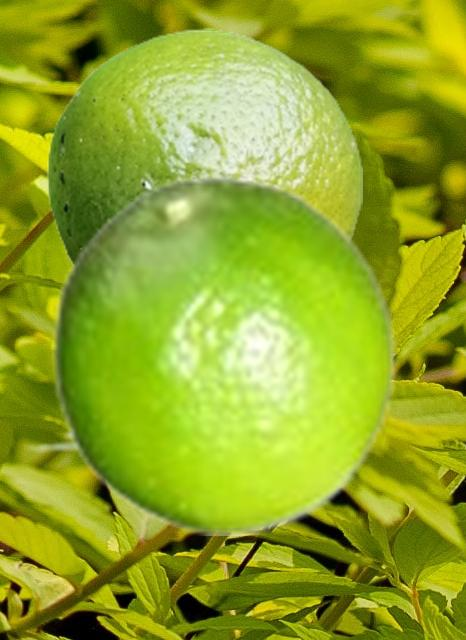calamansi: (51, 173, 398, 534), (47, 28, 361, 264)
